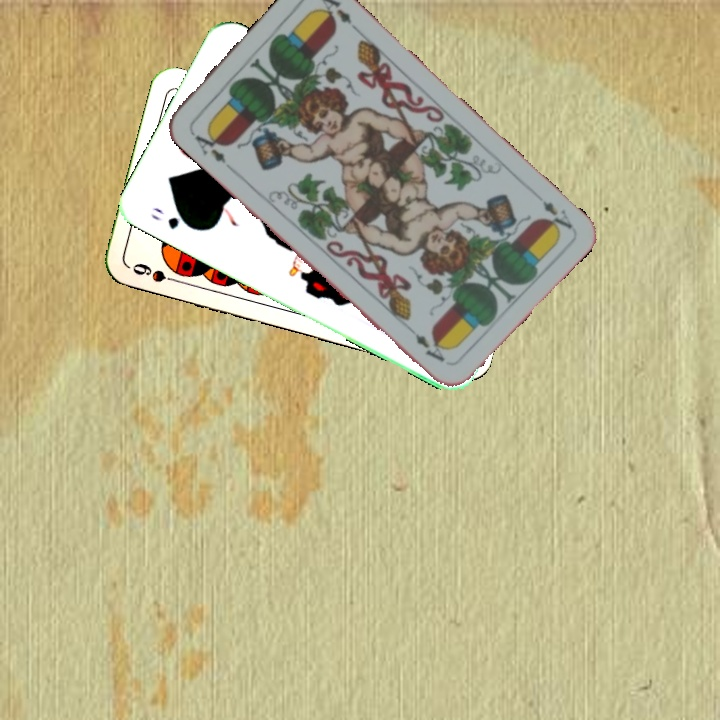EA: (187, 126, 229, 166), (538, 196, 575, 236)
GO: (147, 203, 198, 233)
S9: (128, 259, 185, 287)
